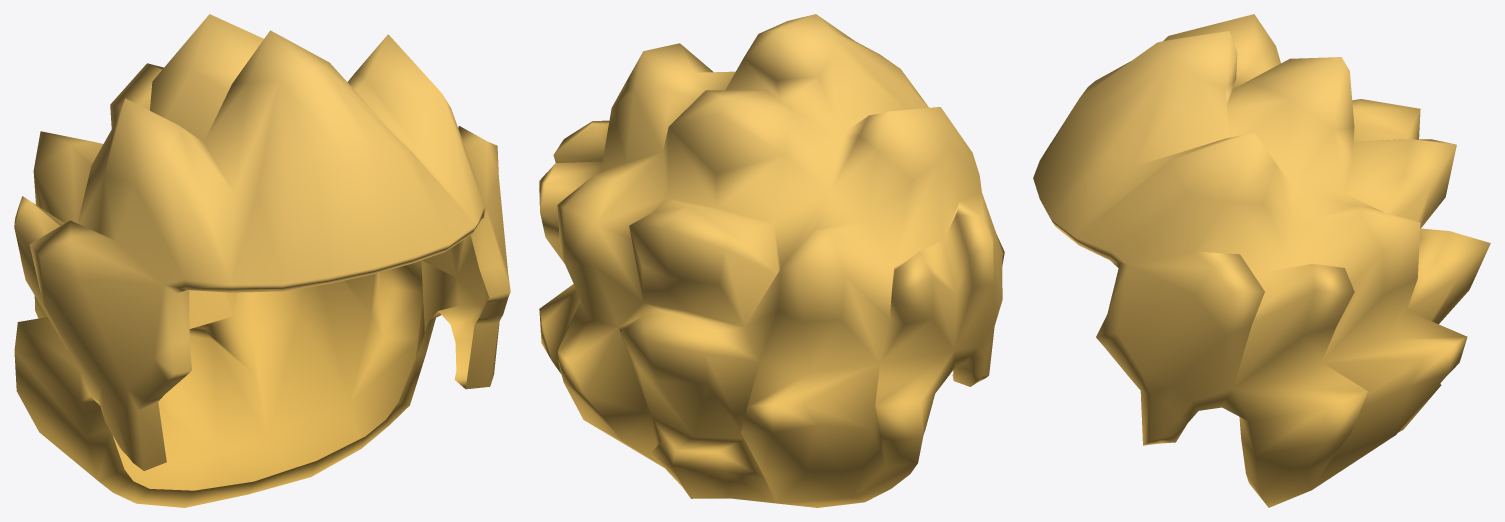
File: Hair_Yellow_16.fbx
The picture shows the model from 3 angles, left to right: view 1: azimuth 30°, elevation 25°; view 2: azimuth 150°, elevation 25°; view 3: azimuth 270°, elevation 25°; orthographic projection. The views are drawn at different scales.
Parts seen in each view (by area): view 1: Hair_Yellow_16; view 2: Hair_Yellow_16; view 3: Hair_Yellow_16.
Boxes of the visible parts, box(x1,y1,x2,y2) form: Hair_Yellow_16: box(14, 14, 510, 507); Hair_Yellow_16: box(539, 14, 1004, 507); Hair_Yellow_16: box(1033, 14, 1490, 507).
Size of the model in its own units: 62.42 by 62.7 by 58.65.
